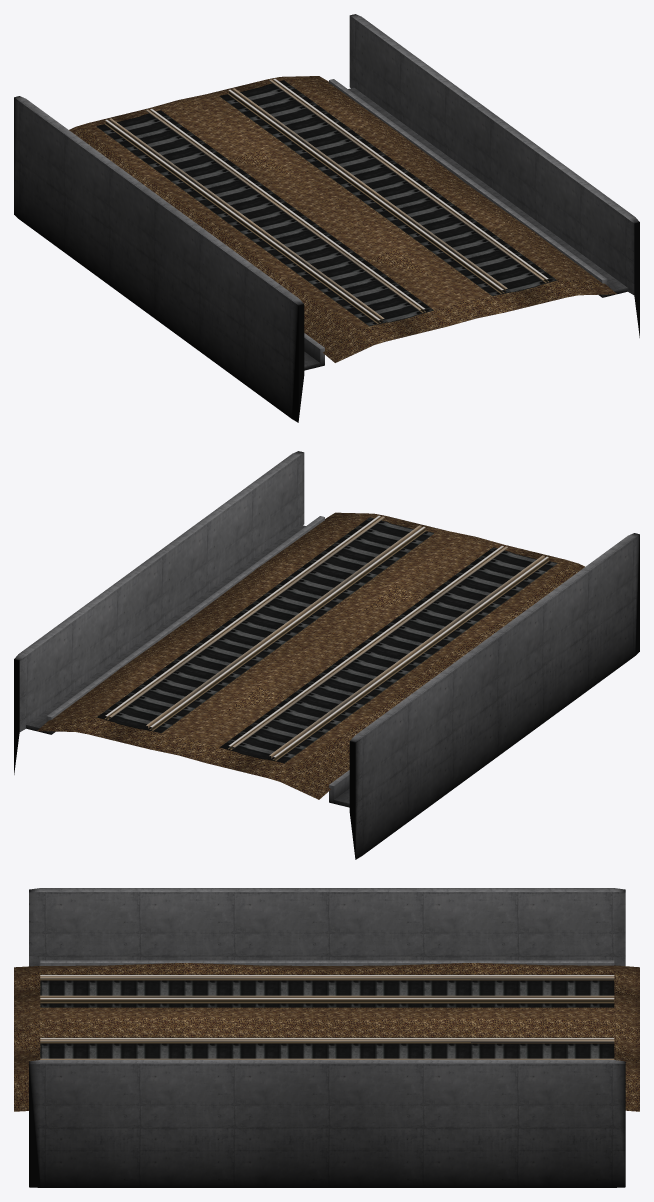
The model's file is HQ_2RAIL_50_WALL.glb.
3 renders of one model, top to bottom at view 1: azimuth 30°, elevation 25°; view 2: azimuth 150°, elevation 25°; view 3: azimuth 270°, elevation 25°, orthographic. The views are drawn at different scales.
Parts seen in each view (by area): view 1: Jari_All1, R000_RG_R1, R000_RG_L1; view 2: Jari_All1, R000_RG_R1, R000_RG_L1; view 3: Jari_All1, R000_RG_R1, R000_RG_L1.
Part boxes in pixels (bbox=[...]): Jari_All1: bbox=[14, 14, 639, 422]; R000_RG_R1: bbox=[109, 88, 507, 321]; R000_RG_L1: bbox=[146, 79, 544, 310]; Jari_All1: bbox=[14, 451, 639, 859]; R000_RG_R1: bbox=[146, 525, 544, 758]; R000_RG_L1: bbox=[109, 516, 507, 749]; Jari_All1: bbox=[14, 888, 639, 1187]; R000_RG_R1: bbox=[40, 976, 614, 1042]; R000_RG_L1: bbox=[40, 995, 614, 1059].
Size of the model in its own units: 36.23 by 11.93 by 54.53.
Materials: 7 (6 with a texture image).
